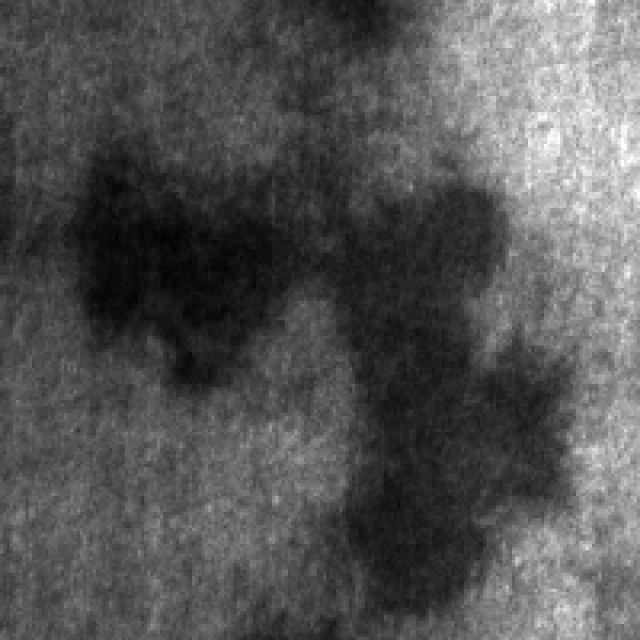patches: (314, 160, 570, 605), (64, 150, 320, 390)
